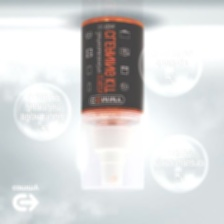cleaning_solution: (76, 13, 146, 193)
